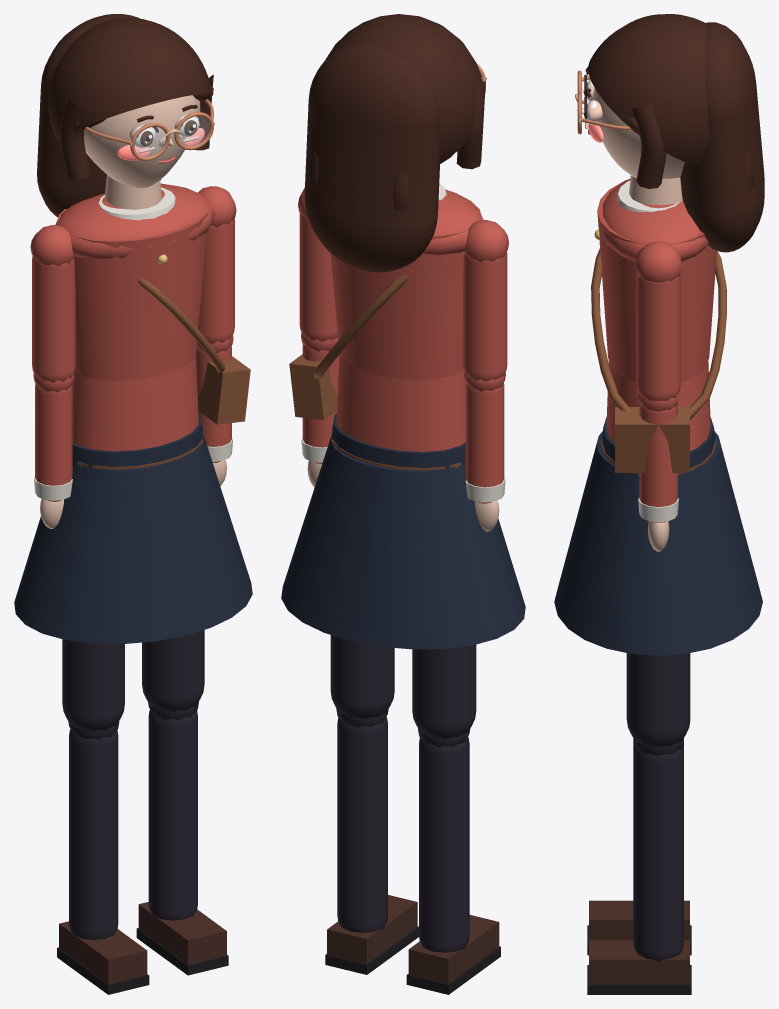
The model's file is female_character.glb.
The picture shows the model from 3 angles, left to right: view 1: azimuth 30°, elevation 25°; view 2: azimuth 150°, elevation 25°; view 3: azimuth 270°, elevation 25°; orthographic projection. The views are drawn at different scales.
Parts seen in each view (by area): view 1: Skirt, Chest, HairGroup, LegL, LegR, Spine, ArmL, UpLegL, HeadMesh, HairDynamic, ArmR, ForeArmL (+9 smaller); view 2: Skirt, HairDynamic, Chest, LegR, LegL, Spine, HairGroup, ArmL, UpLegL, ForeArmL, UpLegR, FootL (+5 smaller); view 3: Skirt, Chest, HairGroup, HairDynamic, LegR, ArmR, UpLegR, FootR, ForeArmR, Spine, HeadMesh, FootL (+3 smaller).
Part boxes in pixels (bbox=[...]): Skirt: bbox=[14, 437, 252, 643]; Chest: bbox=[55, 183, 250, 424]; HairGroup: bbox=[48, 17, 213, 180]; LegL: bbox=[68, 721, 119, 939]; LegR: bbox=[148, 701, 198, 920]; Spine: bbox=[72, 356, 198, 451]; ArmL: bbox=[30, 225, 75, 382]; UpLegL: bbox=[62, 639, 124, 731]; HeadMesh: bbox=[84, 95, 200, 188]; HairDynamic: bbox=[37, 14, 160, 217]; ArmR: bbox=[198, 186, 236, 343]; ForeArmL: bbox=[33, 373, 74, 501]; Skirt: bbox=[281, 437, 525, 649]; HairDynamic: bbox=[304, 42, 440, 272]; Chest: bbox=[289, 183, 483, 420]; LegR: bbox=[336, 708, 388, 932]; LegL: bbox=[418, 728, 470, 952]; Spine: bbox=[336, 354, 465, 451]; HairGroup: bbox=[326, 14, 485, 169]; ArmL: bbox=[462, 220, 508, 381]; UpLegL: bbox=[412, 644, 476, 739]; ForeArmL: bbox=[464, 372, 505, 503]; UpLegR: bbox=[330, 635, 394, 719]; FootL: bbox=[406, 915, 500, 994]; Skirt: bbox=[554, 431, 762, 655]; Chest: bbox=[591, 178, 726, 472]; HairGroup: bbox=[587, 14, 709, 188]; HairDynamic: bbox=[680, 22, 764, 252]; LegR: bbox=[633, 738, 683, 961]; ArmR: bbox=[635, 241, 681, 400]; UpLegR: bbox=[626, 653, 690, 746]; FootR: bbox=[587, 940, 691, 994]; ForeArmR: bbox=[638, 393, 678, 522]; Spine: bbox=[606, 360, 710, 451]; HeadMesh: bbox=[593, 88, 684, 178]; FootL: bbox=[587, 900, 691, 955].
Size of the model in its own units: 0.424 by 1.73 by 0.3506.
